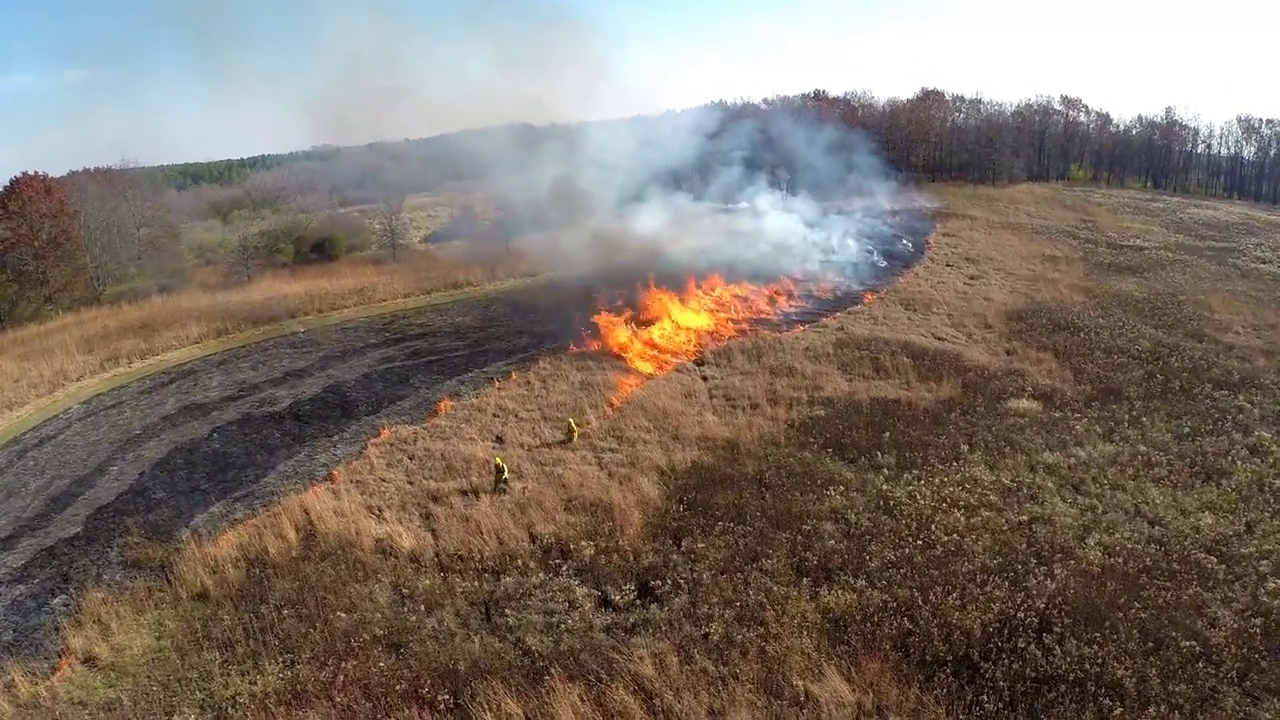forest_fire: (585, 274, 794, 406)
